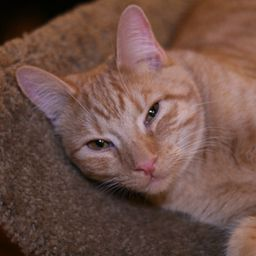cat: (18, 5, 239, 219)
